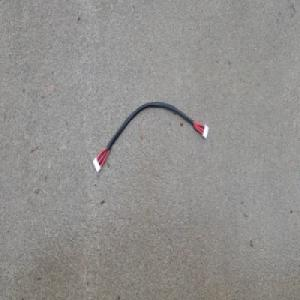Wire: (92, 101, 210, 174)
